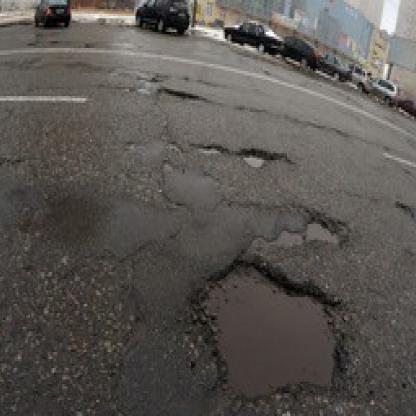pothole: (191, 252, 346, 403), (302, 212, 351, 247), (236, 147, 297, 172), (157, 87, 199, 103), (194, 142, 227, 155), (396, 201, 412, 217)
